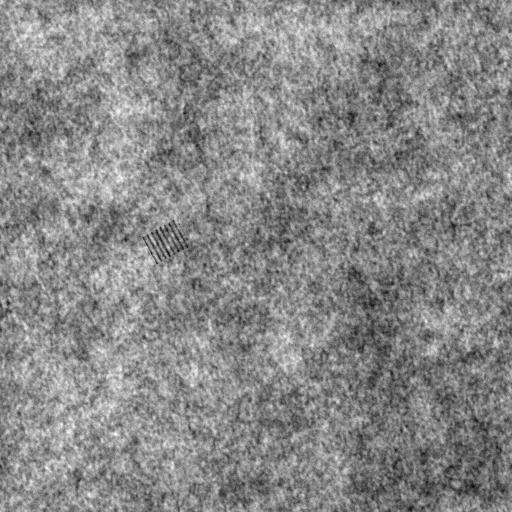DefectTypeB: (143, 219, 192, 261)
